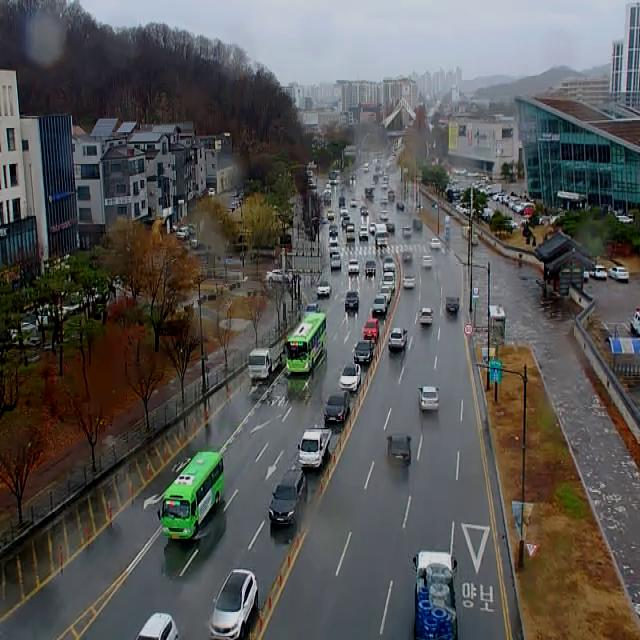Bus: (158, 452, 224, 538)
Car: (208, 568, 258, 640), (285, 312, 326, 372), (268, 469, 308, 525), (135, 612, 178, 640), (324, 390, 350, 424), (387, 434, 411, 466), (339, 364, 361, 391), (419, 386, 439, 410), (353, 340, 372, 363), (266, 269, 293, 283), (389, 328, 407, 348), (364, 318, 379, 342), (372, 295, 387, 317), (608, 267, 629, 281), (588, 266, 607, 280), (345, 291, 358, 309), (383, 272, 395, 291), (419, 308, 433, 324), (304, 304, 320, 318), (446, 297, 459, 312), (381, 286, 391, 304), (403, 274, 415, 289), (383, 256, 395, 270), (346, 223, 355, 241), (318, 282, 330, 295), (365, 261, 376, 275), (348, 259, 359, 273), (413, 218, 423, 233), (177, 226, 189, 238), (430, 238, 441, 250), (422, 256, 432, 268), (331, 255, 340, 268), (402, 252, 412, 263), (402, 226, 411, 238), (359, 225, 368, 237), (343, 216, 350, 228), (330, 226, 338, 236), (361, 205, 368, 215), (209, 187, 215, 197), (370, 222, 375, 232)
Truck: (412, 549, 457, 640), (298, 428, 332, 468), (249, 346, 282, 378), (376, 223, 388, 246)
